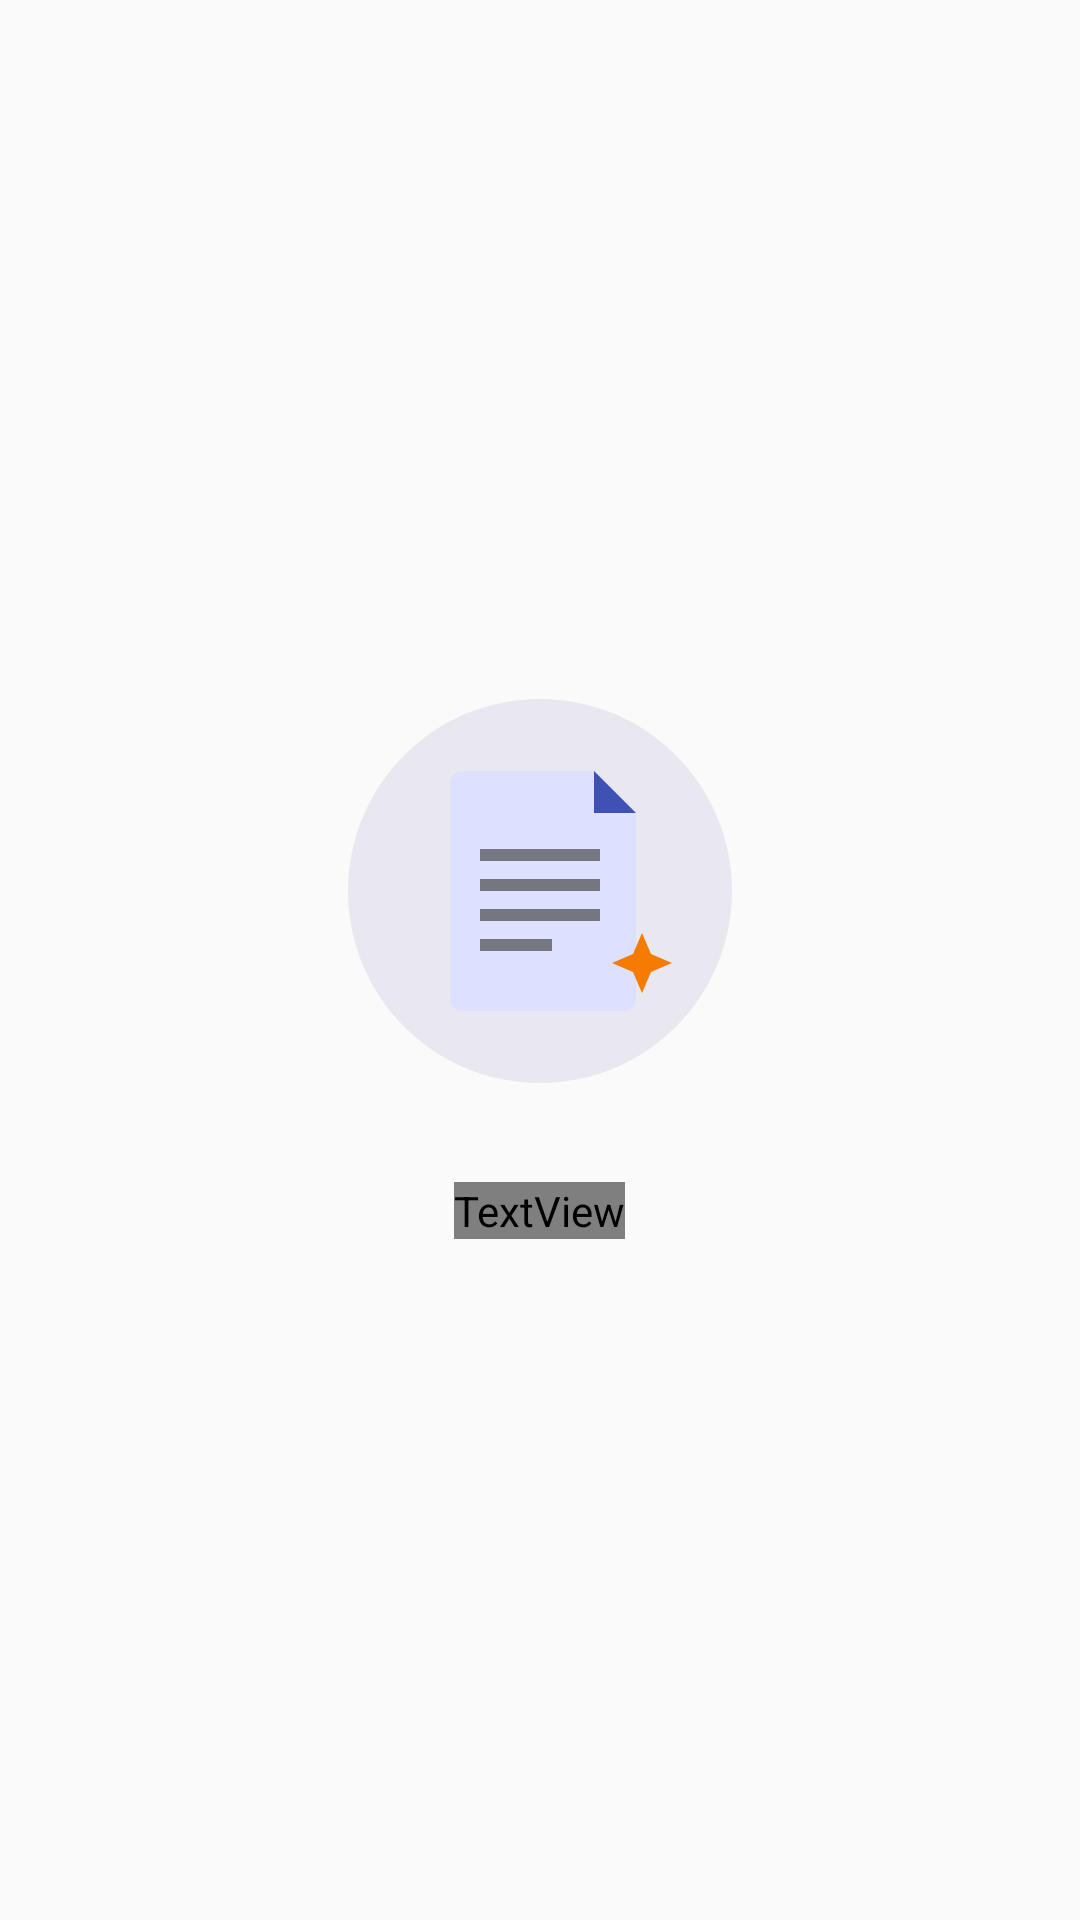

Screen size 1080px x 1920px. Icon name, then its box in pixels as (x1, y1, x2, y2):
Пустой список: (450, 771, 672, 1011)
